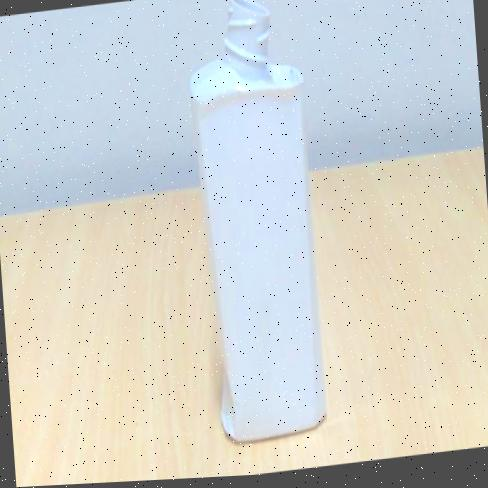bottle: (190, 0, 326, 441)
